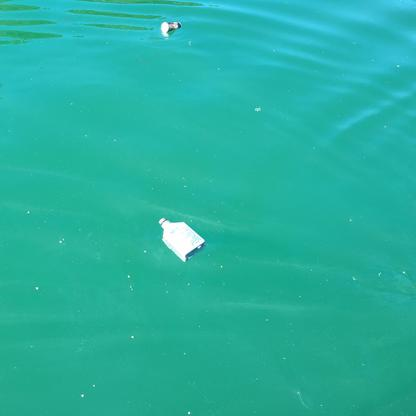can: (159, 23, 180, 32)
plastic bottle: (159, 217, 207, 261)
